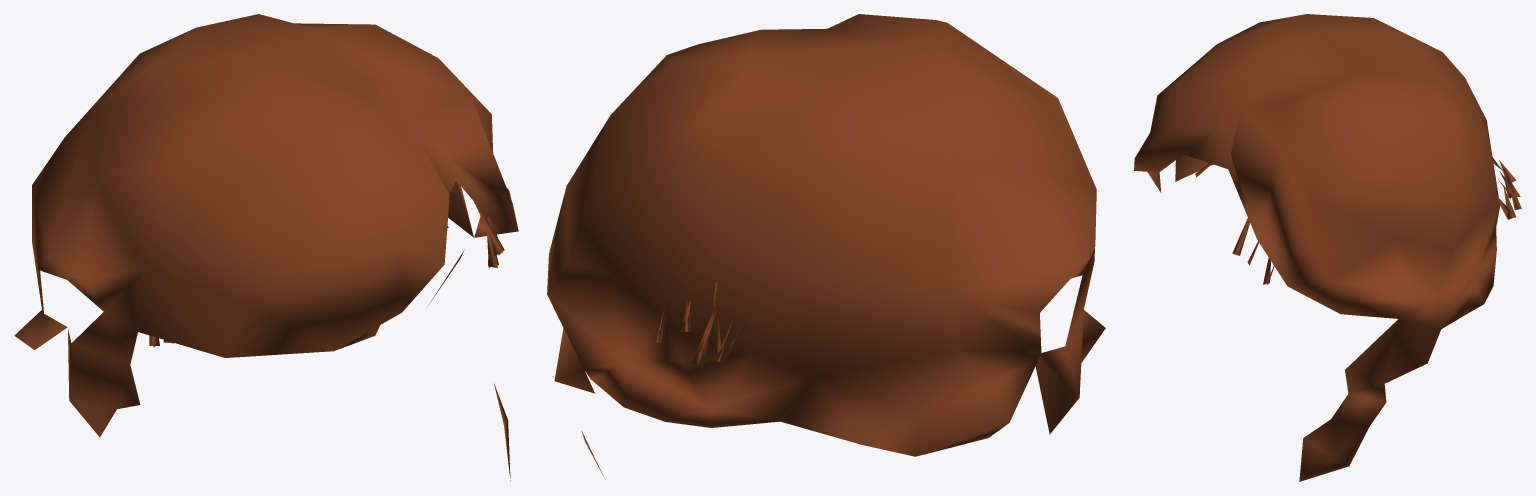
Rendered from braid.glb.
3 renders of one model, left to right at view 1: azimuth 30°, elevation 25°; view 2: azimuth 150°, elevation 25°; view 3: azimuth 270°, elevation 25°, orthographic. The views are drawn at different scales.
Visible parts, largest first — view 1: Hair, HairPulledRootStrands; view 2: Hair, HairPulledRootStrands; view 3: Hair, HairPulledRootStrands.
Boxes of the visible parts, x1,y1,x2,y2 form: Hair: (14, 14, 518, 480); HairPulledRootStrands: (149, 202, 504, 347); Hair: (547, 14, 1105, 478); HairPulledRootStrands: (655, 281, 749, 366); Hair: (1134, 14, 1499, 481); HairPulledRootStrands: (1195, 156, 1521, 285).
Size of the model in its own units: 0.4647 by 0.4544 by 0.4431.
